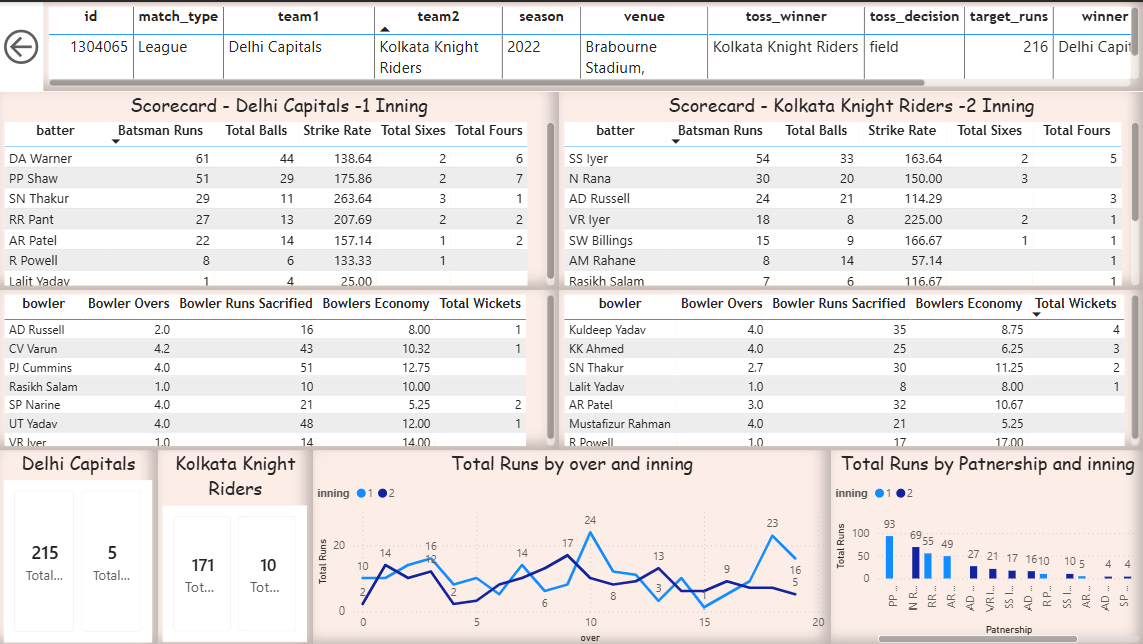

The dashboard page shown, as its layout file describes it:
{"tool":"powerbi","page":{"name":"Match Insight","canvas":[1280,720],"ordinal":7},"visuals":[{"type":"actionButton","box":[0,0,49.9,99.8],"z":0},{"type":"tableEx","fields":{"Values":["matches.id","matches.match_type","matches.team1","matches.team2","matches.season","matches.venue","matches.toss_winner","matches.toss_decision","matches.target_runs","matches.winner","matches.player_of_match","matches.result_margin"]},"box":[49.9,0,1229.7,99.8],"z":1000},{"type":"tableEx","fields":{"Values":["deliveries.batter","deliveries.Batsman Runs","deliveries.Total Balls","deliveries.Strike Rate","deliveries.Total Sixes","deliveries.Total Fours"]},"box":[0,100.4,626,221.3],"z":2000},{"type":"tableEx","fields":{"Values":["deliveries.bowler","deliveries.Bowler Overs","deliveries.Bowler Runs Sacrified","deliveries.Bowlers Economy","deliveries.Total Wickets"]},"box":[0,321.7,626,179.1],"z":3000},{"type":"tableEx","fields":{"Values":["deliveries.batter","deliveries.Batsman Runs","deliveries.Total Balls","deliveries.Strike Rate","deliveries.Total Sixes","deliveries.Total Fours"]},"box":[626,100.4,653.6,221.3],"z":4000},{"type":"tableEx","fields":{"Values":["deliveries.bowler","deliveries.Bowler Overs","deliveries.Bowler Runs Sacrified","deliveries.Bowlers Economy","deliveries.Total Wickets"]},"box":[626,321.7,653.6,179.1],"z":5000},{"type":"lineChart","fields":{"Category":["deliveries.over"],"Y":["deliveries.Total Runs"],"Series":["deliveries.inning"]},"box":[350.8,500.8,579.4,219.8],"z":6000},{"type":"cardVisual","fields":{"Data":["deliveries.Total Runs","deliveries.Total Wickets"]},"box":[0,500.8,177.6,219.8],"z":7000},{"type":"cardVisual","fields":{"Data":["deliveries.Total Runs","deliveries.Total Wickets"]},"box":[177.6,500.8,173.2,219.8],"z":8000},{"type":"clusteredColumnChart","fields":{"Category":["deliveries.Patnership"],"Y":["deliveries.Total Runs"],"Series":["deliveries.inning"]},"box":[930,501,350,219],"z":9000}]}

Visuals, with their boxes in screenshot pixels (x1, y1, x2, y2), scaled from the page's 1280x720 canvas onto the 1143x644 screenshot:
actionButton: Rect(0, 0, 45, 89)
tableEx - matches.id x matches.match_type: Rect(45, 0, 1142, 89)
tableEx - deliveries.batter x deliveries.Batsman Runs: Rect(0, 90, 559, 288)
tableEx - deliveries.bowler x deliveries.Bowler Overs: Rect(0, 288, 559, 448)
tableEx - deliveries.batter x deliveries.Batsman Runs: Rect(559, 90, 1142, 288)
tableEx - deliveries.bowler x deliveries.Bowler Overs: Rect(559, 288, 1142, 448)
lineChart - deliveries.over x deliveries.Total Runs: Rect(313, 448, 831, 643)
cardVisual - deliveries.Total Runs x deliveries.Total Wickets: Rect(0, 448, 159, 643)
cardVisual - deliveries.Total Runs x deliveries.Total Wickets: Rect(159, 448, 313, 643)
clusteredColumnChart - deliveries.Patnership x deliveries.Total Runs: Rect(830, 448, 1142, 643)
